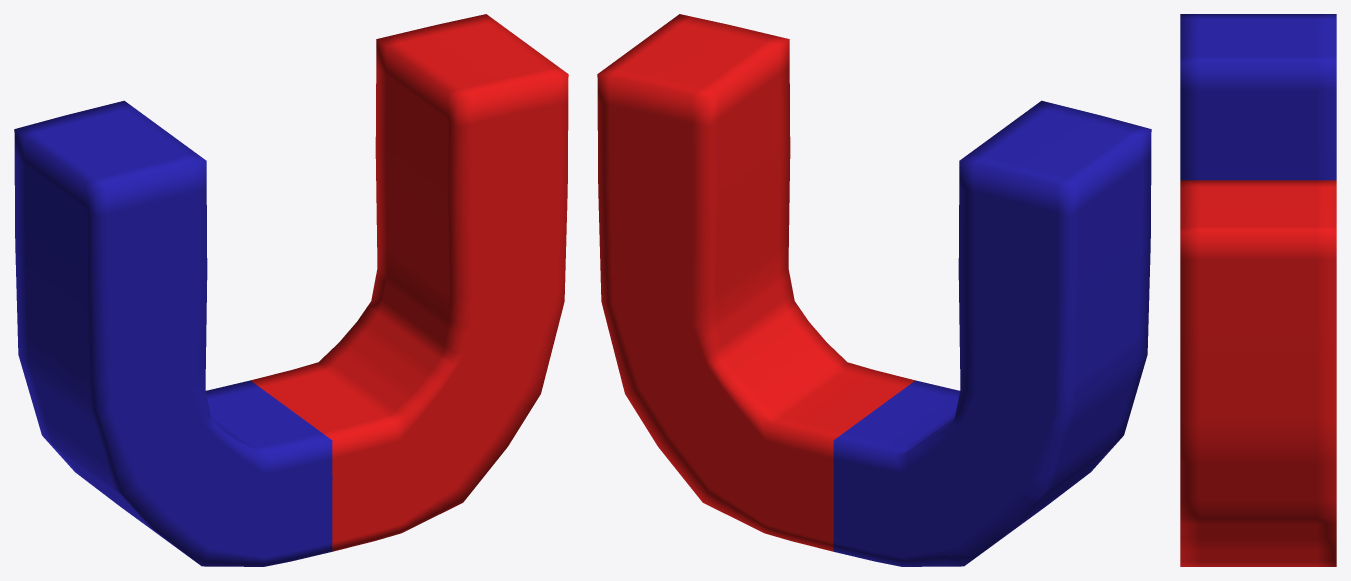
Rendered from magnet.glb.
The picture shows the model from 3 angles, left to right: view 1: azimuth 30°, elevation 25°; view 2: azimuth 150°, elevation 25°; view 3: azimuth 270°, elevation 25°; orthographic projection. The views are drawn at different scales.
Parts seen in each view (by area): view 1: magnet; view 2: magnet; view 3: magnet.
Part boxes in pixels (x1,y1,x2,y2): magnet: [14, 14, 568, 566]; magnet: [597, 14, 1151, 566]; magnet: [1180, 14, 1336, 566].
Bounding box in the file's own units: 0.8196 × 0.7 × 0.2471.
